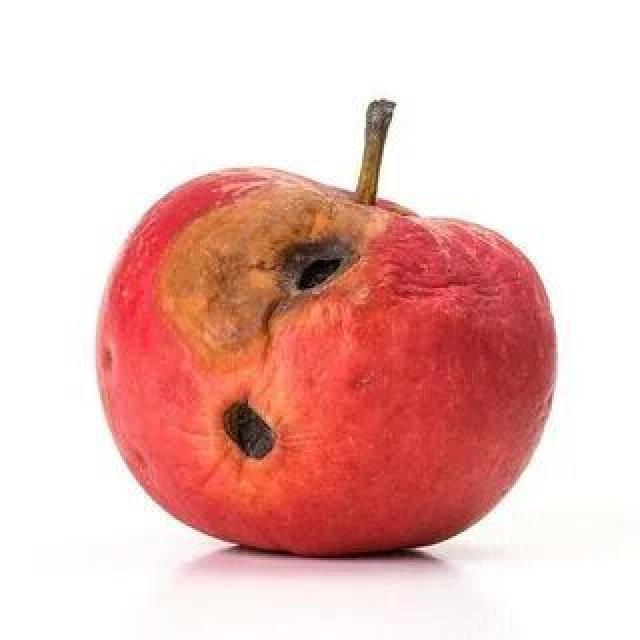Rotten: (102, 162, 570, 588)
